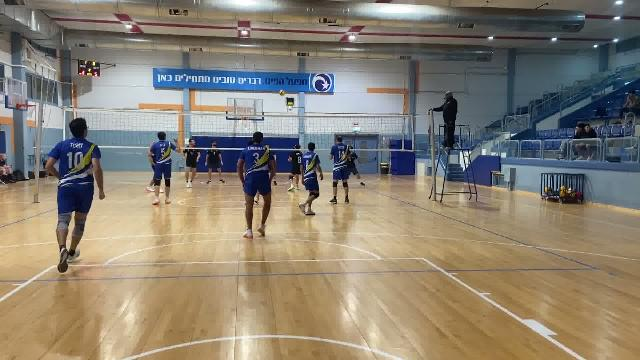ball: (277, 89, 288, 98)
